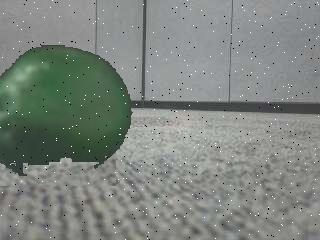Lime: (0, 47, 134, 168)
